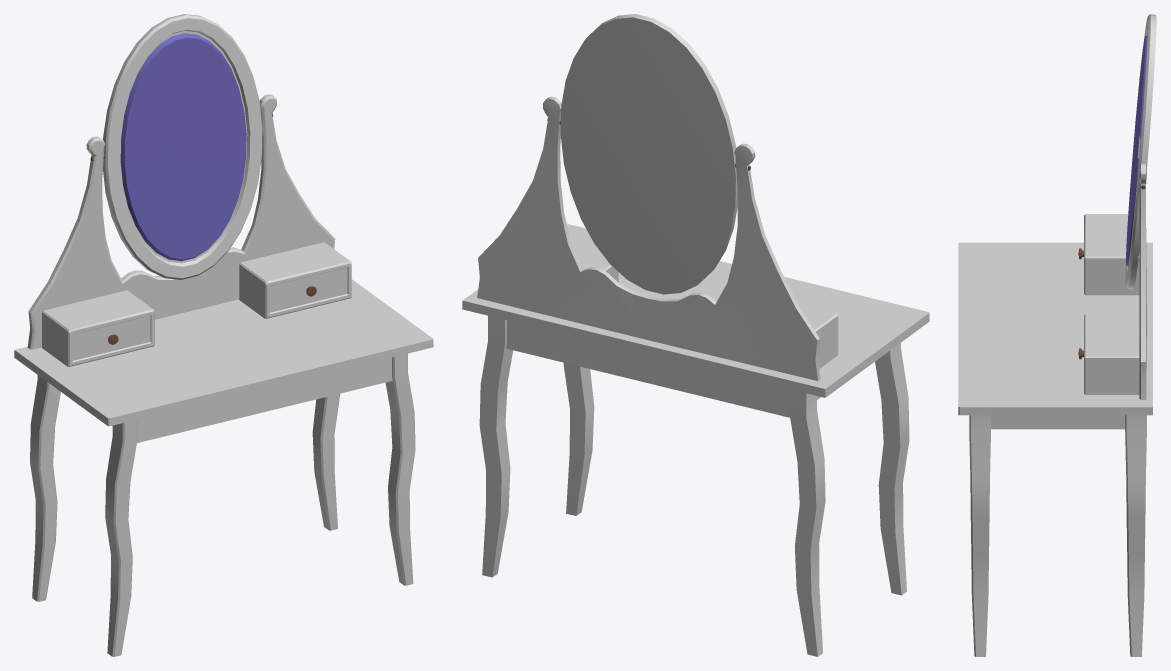
Rendered from HemnesDressingTableWithMirror.FBX.
The picture shows the model from 3 angles, left to right: view 1: azimuth 30°, elevation 25°; view 2: azimuth 150°, elevation 25°; view 3: azimuth 270°, elevation 25°; orthographic projection. The views are drawn at different scales.
Parts seen in each view (by area): view 1: HemnesDressingTableWithMirror; view 2: HemnesDressingTableWithMirror; view 3: HemnesDressingTableWithMirror.
Part boxes in pixels (x1,y1,x2,y2): HemnesDressingTableWithMirror: [14, 14, 433, 656]; HemnesDressingTableWithMirror: [462, 14, 929, 656]; HemnesDressingTableWithMirror: [958, 14, 1156, 656].
Bounding box in the file's own units: 99.94 × 50.88 × 159.
